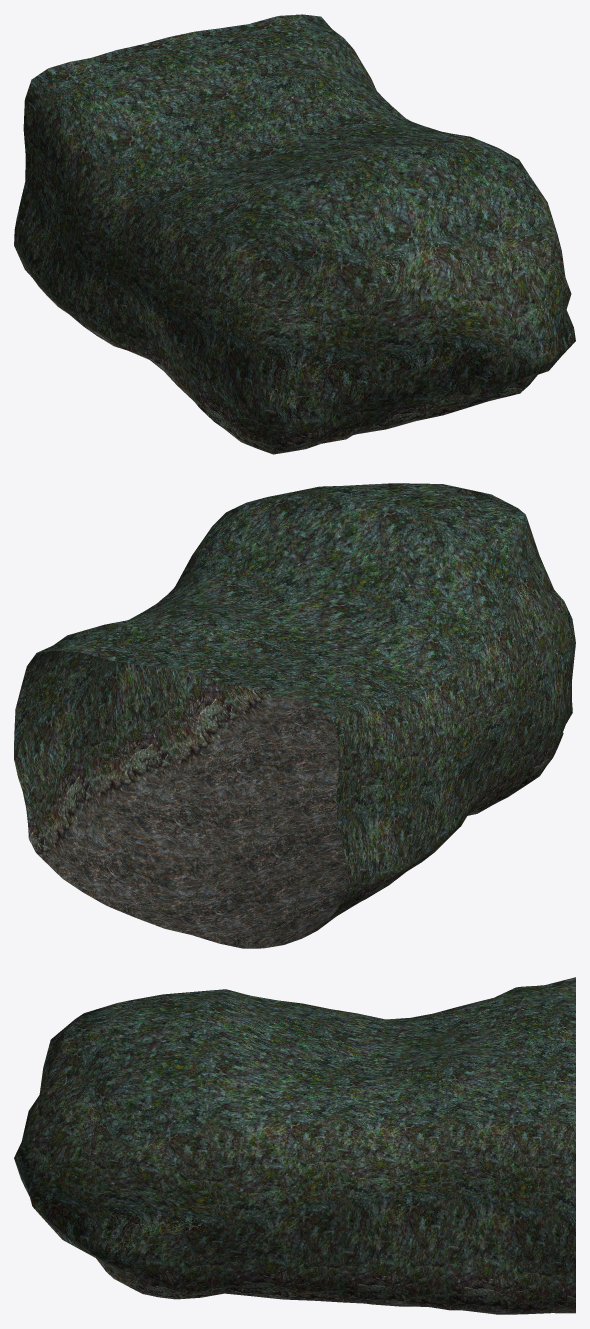
Rendered from thm_all_cave_s01_damprock_r11_mesh_r11.fbx.
3 renders of one model, top to bottom at view 1: azimuth 30°, elevation 25°; view 2: azimuth 150°, elevation 25°; view 3: azimuth 270°, elevation 25°, orthographic. The views are drawn at different scales.
Parts seen in each view (by area): view 1: mesh_node; view 2: mesh_node; view 3: mesh_node.
Part boxes in pixels (bbox=[...]): mesh_node: bbox=[14, 14, 575, 454]; mesh_node: bbox=[14, 483, 575, 948]; mesh_node: bbox=[14, 977, 575, 1314].
Size of the model in its own units: 34.13 by 27 by 50.77.
